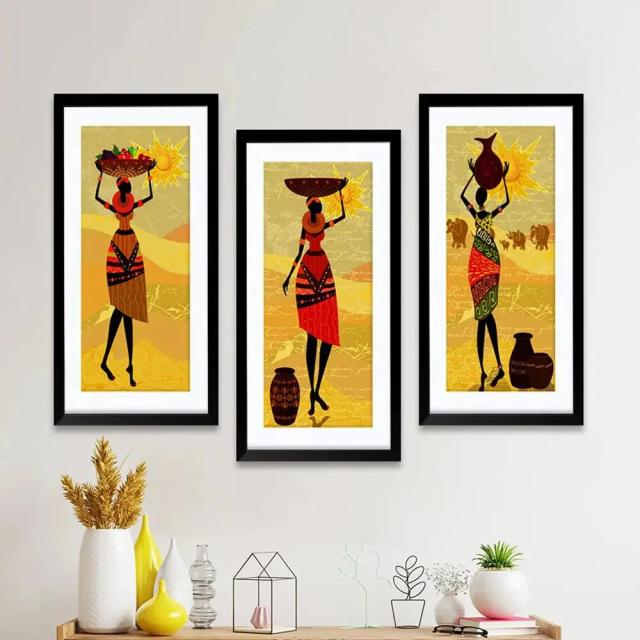painting: (54, 91, 219, 425), (235, 131, 400, 465), (419, 92, 584, 426)
